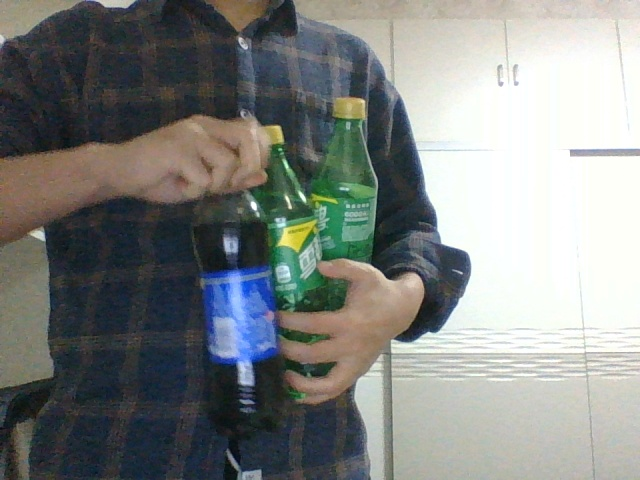Cola: (192, 187, 285, 438)
Sprite: (252, 127, 326, 405), (311, 95, 379, 395)
